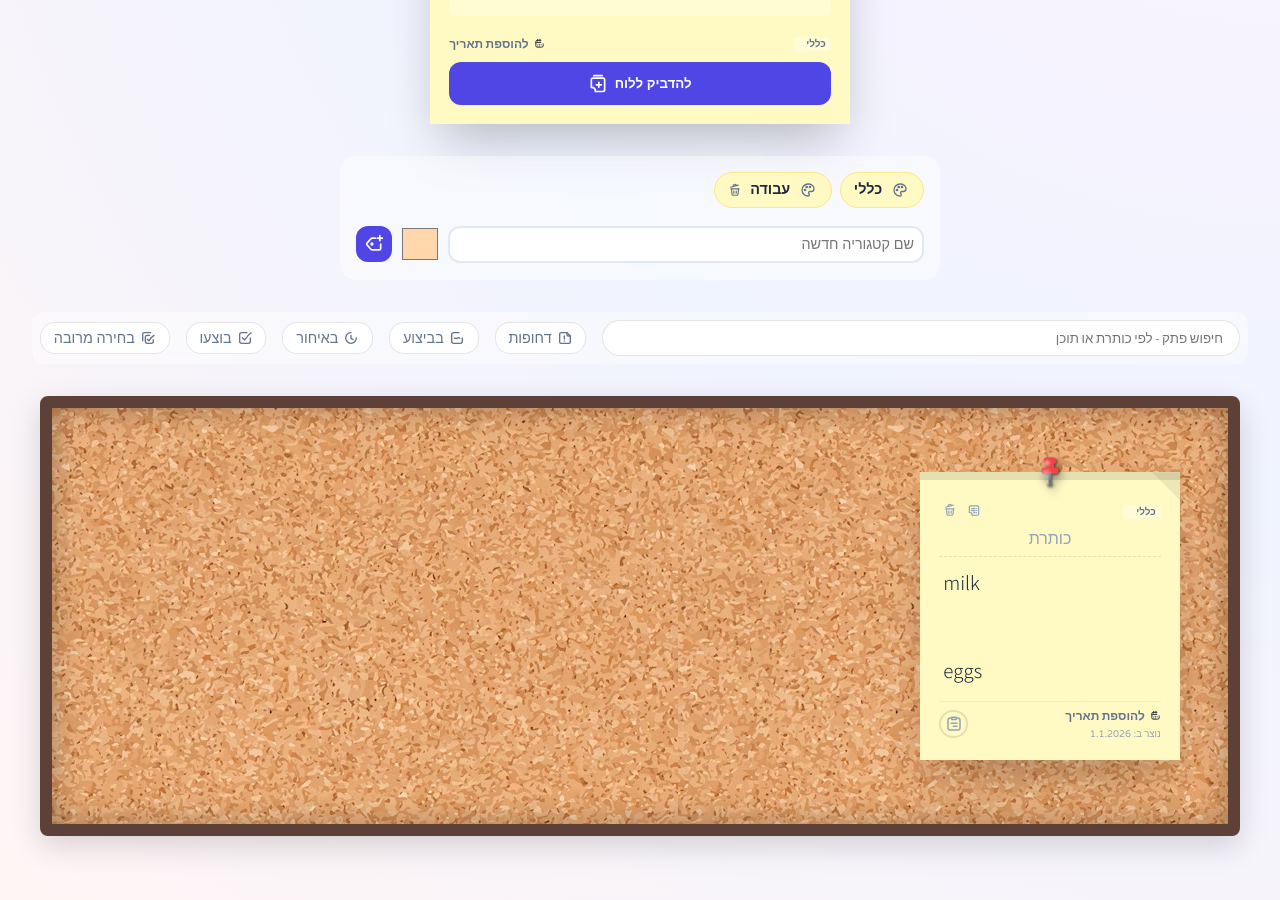
checklist notes › converting skips blank lines and drops the plain-text field
The width and height of the screenshot is (1280, 900).
(page scrolled)
Click the button named "להפוך לרשימה" at (974, 512), box [963,500,985,526]
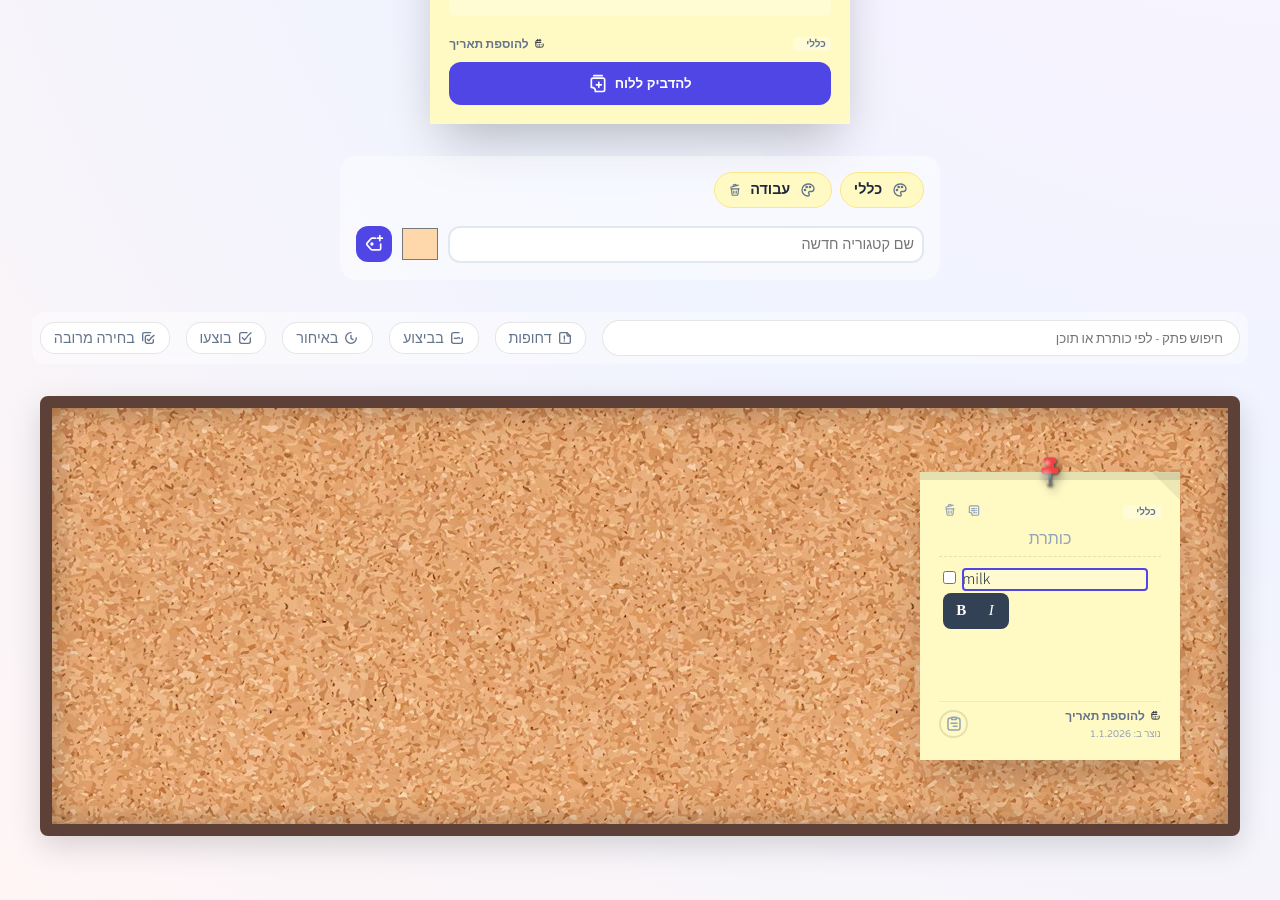
Check: the fields read "milk", "eggs", in this order, box [962,568,1148,591]; [962,596,992,618]
